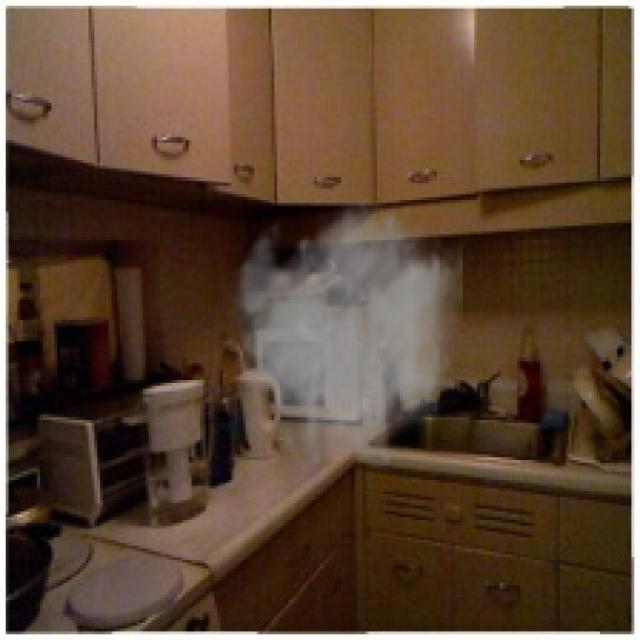smoke: (217, 194, 463, 477)
